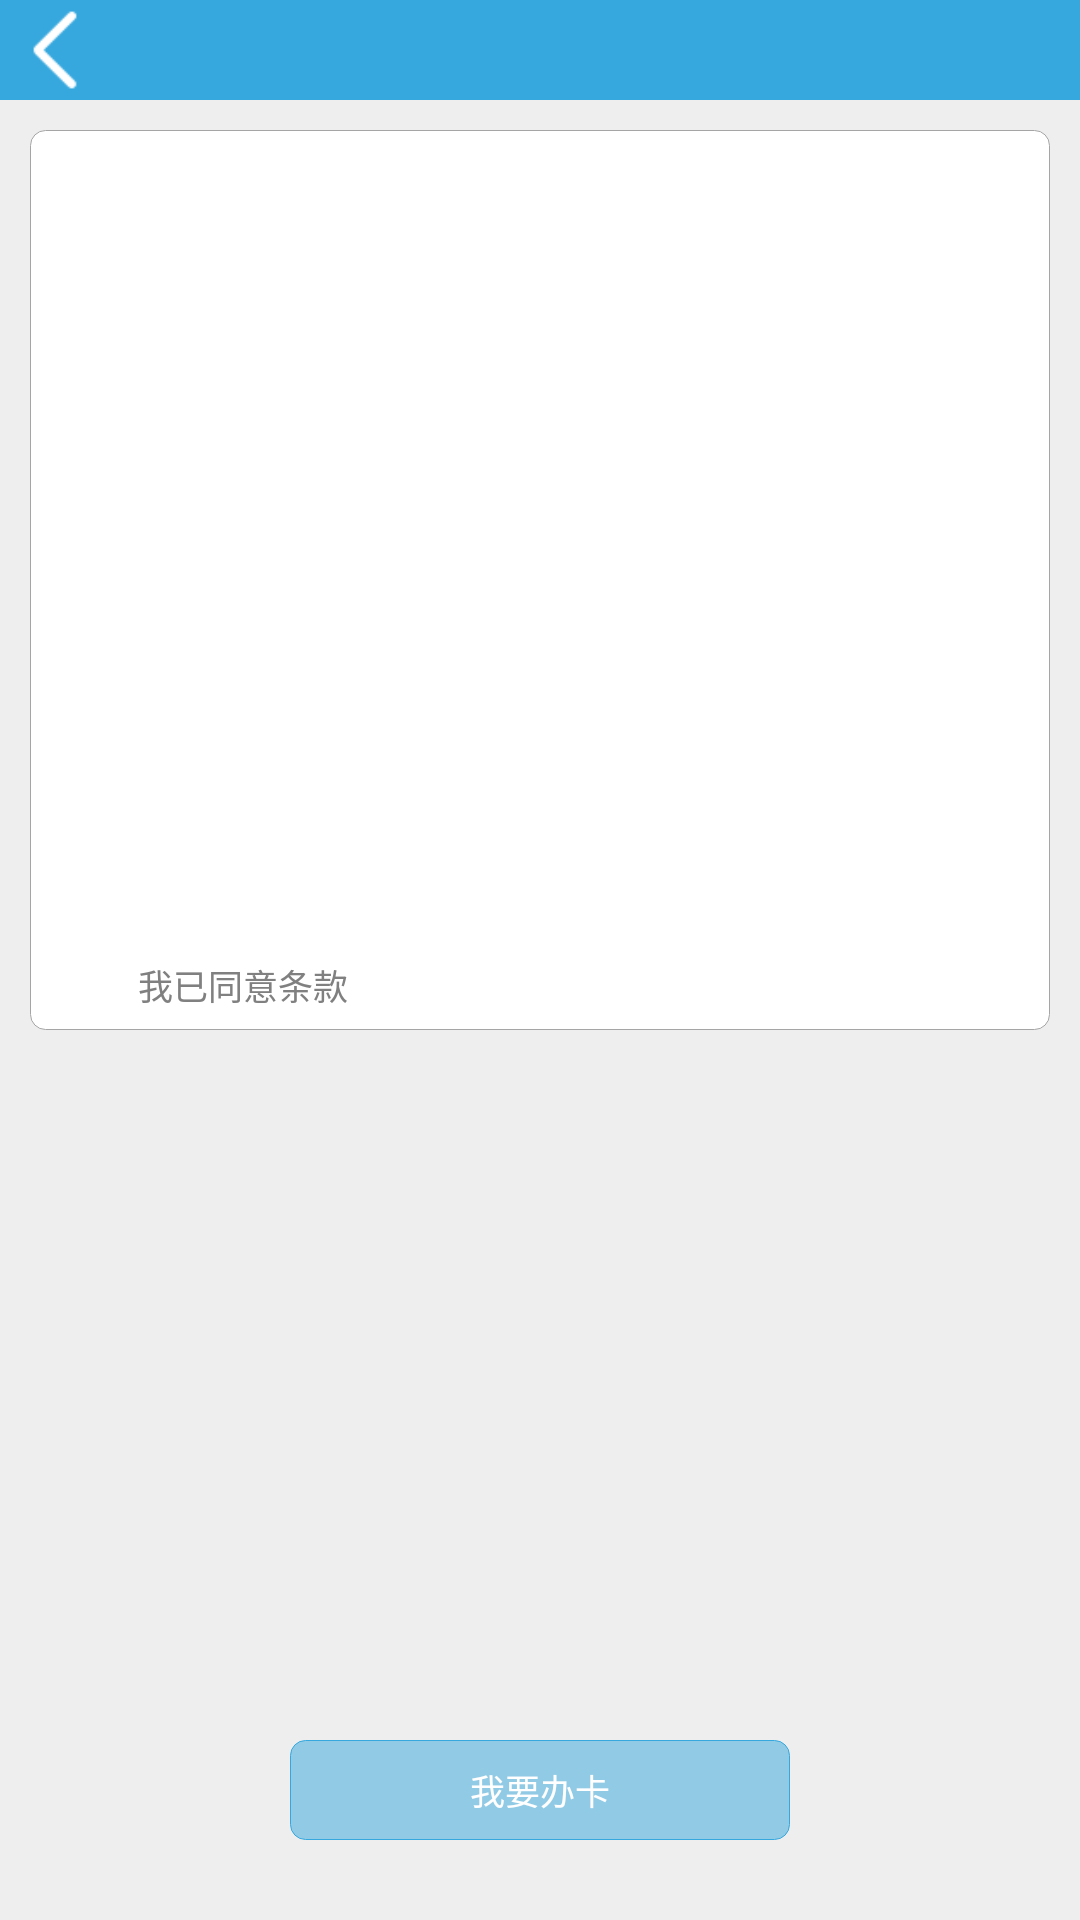

Where icons sit on this 1080 x 1920 app screen, as (x1, y1, x2, y2):
leftarrowicon: (33, 11, 77, 89)
